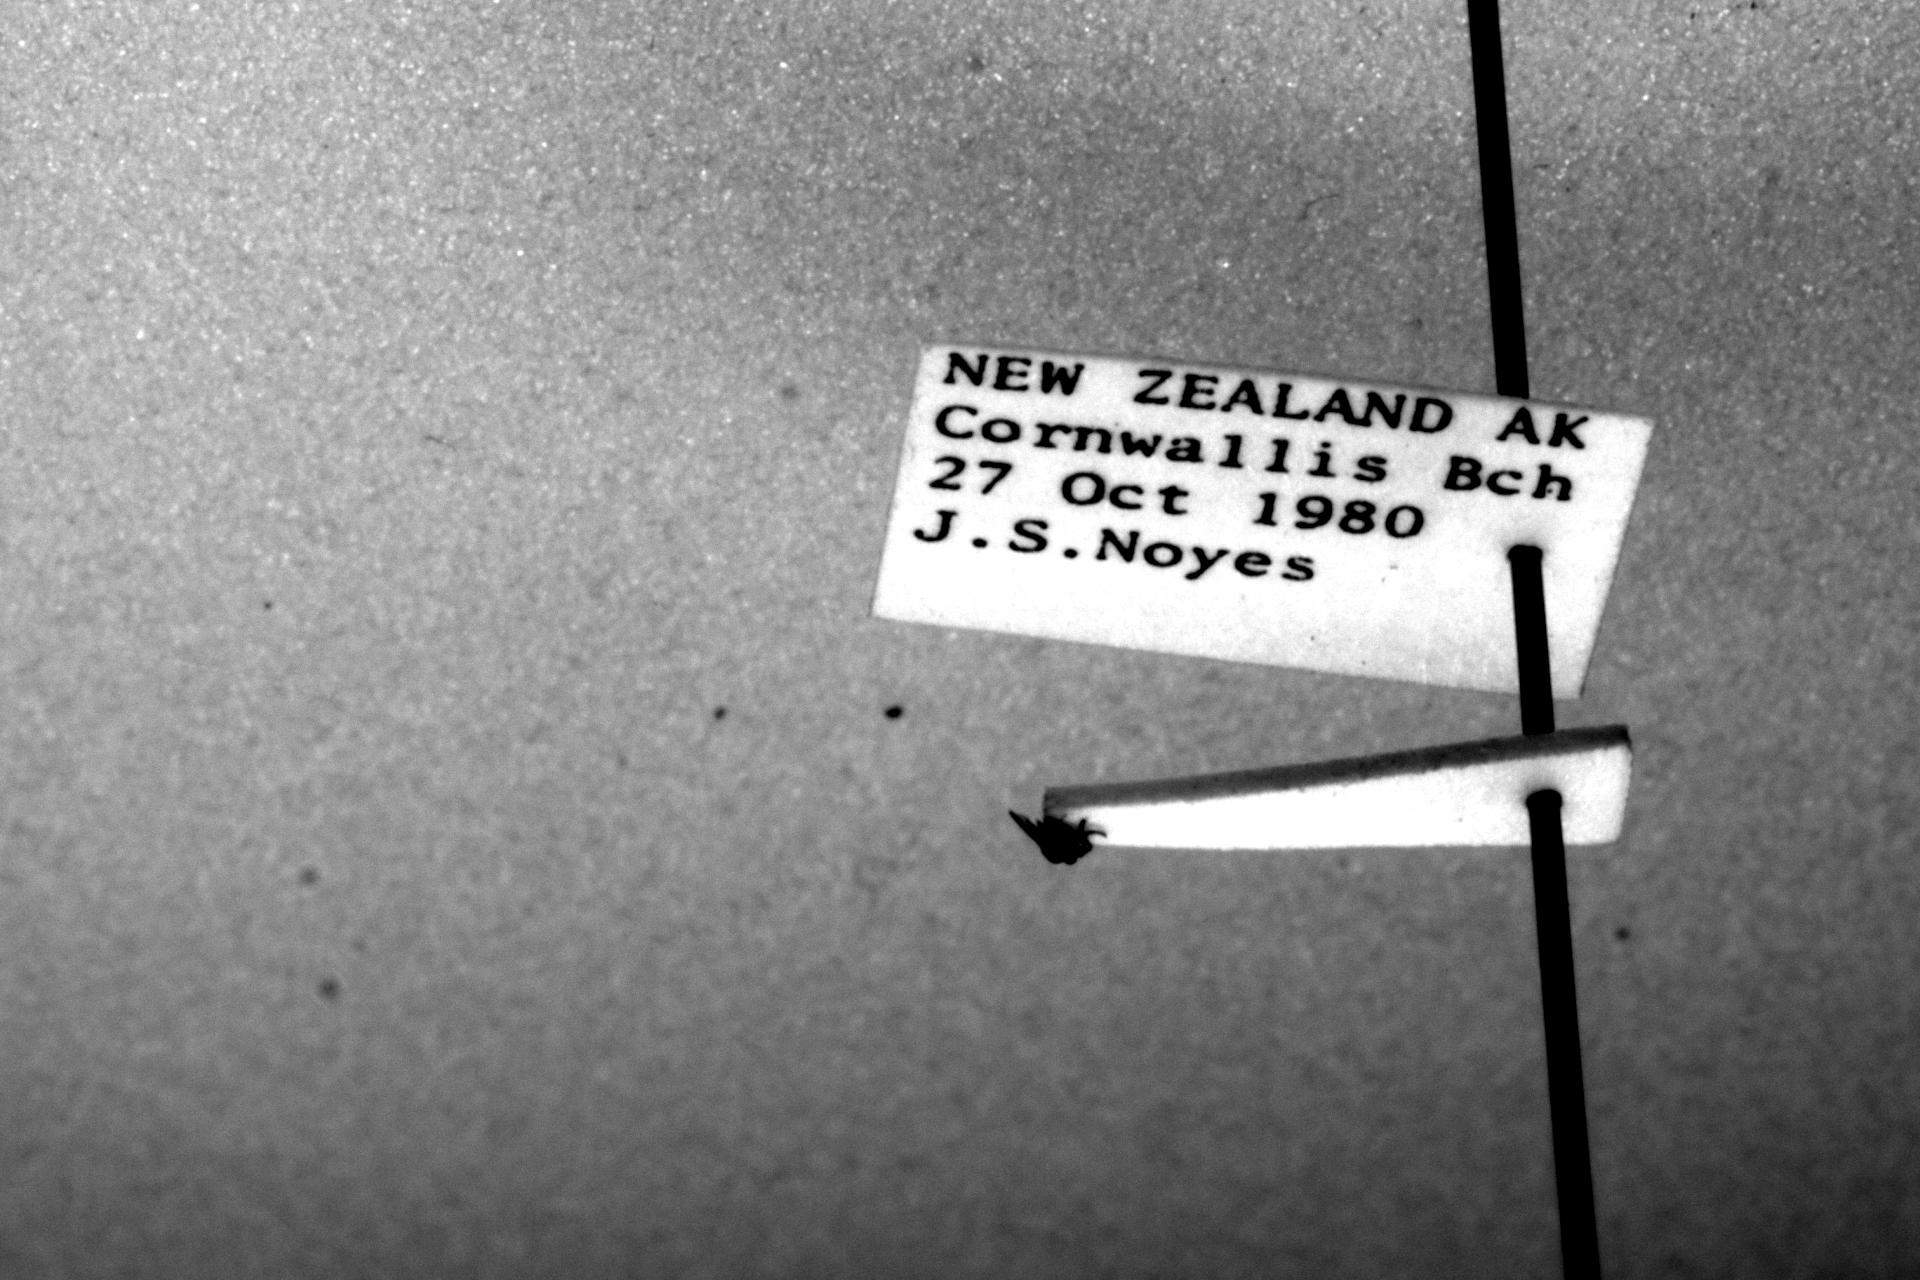typed_label: (874, 346, 1654, 697)
